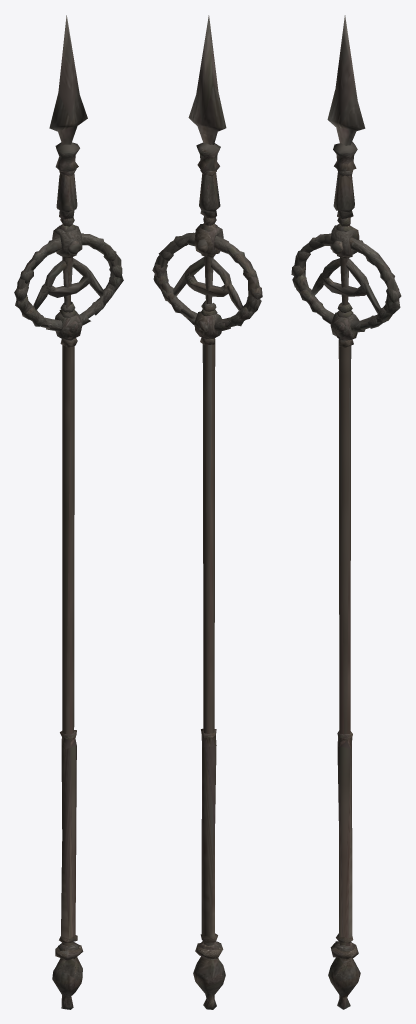
File: gear_roman_signum_0.glb
3 views of the same model, side by side, from view 1: azimuth 30°, elevation 25°; view 2: azimuth 150°, elevation 25°; view 3: azimuth 330°, elevation 25° (orthographic).
Parts seen in each view (by area): view 1: MeshyEquipment_gear_roman_signum; view 2: MeshyEquipment_gear_roman_signum; view 3: MeshyEquipment_gear_roman_signum.
Boxes of the visible parts, box(x1,y1,x2,y2) form: MeshyEquipment_gear_roman_signum: box(14, 15, 123, 1009); MeshyEquipment_gear_roman_signum: box(152, 15, 262, 1009); MeshyEquipment_gear_roman_signum: box(291, 15, 401, 1009).
Bounding box in the file's own units: 0.2405 × 2.11 × 0.0666.
Materials: 1 (1 with a texture image).
